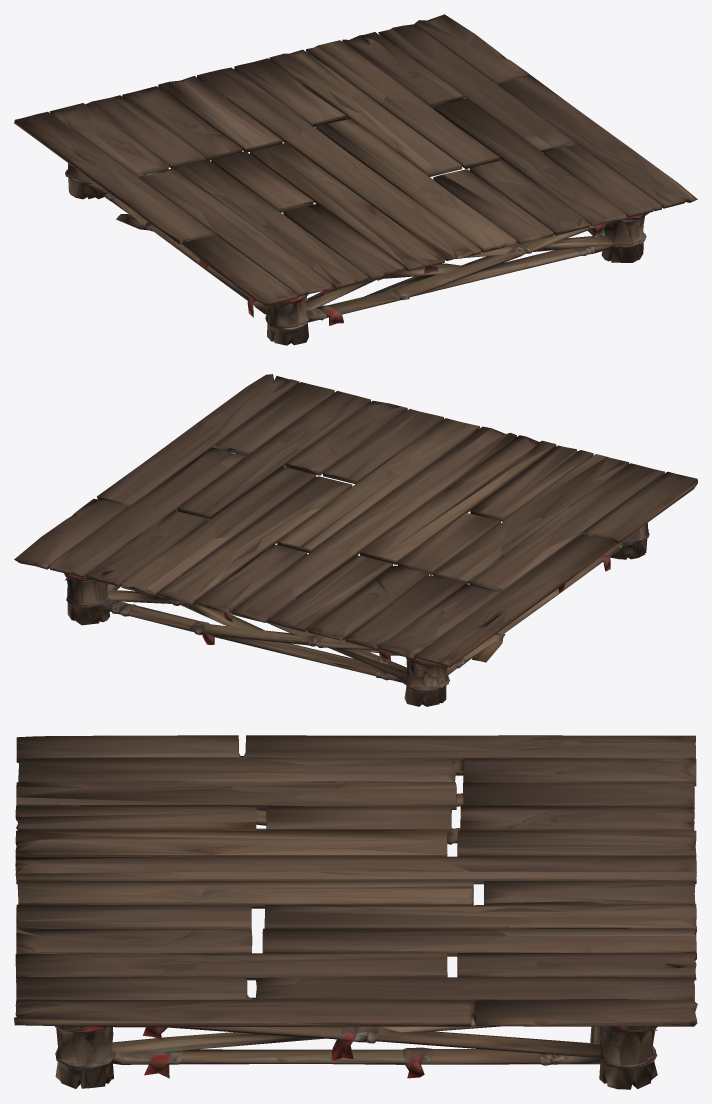
Rendered from platform.glb.
3 renders of one model, top to bottom at view 1: azimuth 30°, elevation 25°; view 2: azimuth 150°, elevation 25°; view 3: azimuth 270°, elevation 25°, orthographic. The views are drawn at different scales.
Parts seen in each view (by area): view 1: platform; view 2: platform; view 3: platform.
Boxes of the visible parts, x1=… form: platform: x1=14, y1=14, x2=697, y2=345; platform: x1=14, y1=374, x2=697, y2=706; platform: x1=14, y1=735, x2=697, y2=1089.
Size of the model in its own units: 7 by 1 by 7.
1 material, 1 textured.
